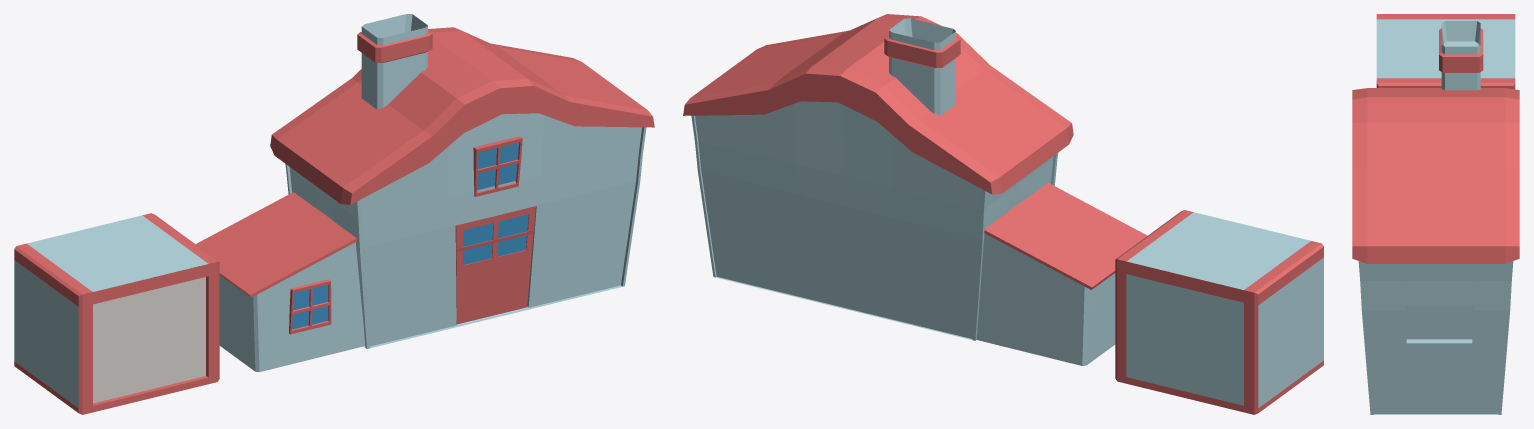
The model's file is house3.fbx.
3 renders of one model, left to right at view 1: azimuth 30°, elevation 25°; view 2: azimuth 150°, elevation 25°; view 3: azimuth 270°, elevation 25°, orthographic. The views are drawn at different scales.
Visible parts, largest first — view 1: polySurface156; view 2: polySurface156; view 3: polySurface156.
Boxes of the visible parts, x1,y1,x2,y2 form: polySurface156: [14, 14, 654, 414]; polySurface156: [683, 14, 1323, 414]; polySurface156: [1352, 14, 1519, 414].
Bounding box in the file's own units: 5 × 2.32 × 1.23.
